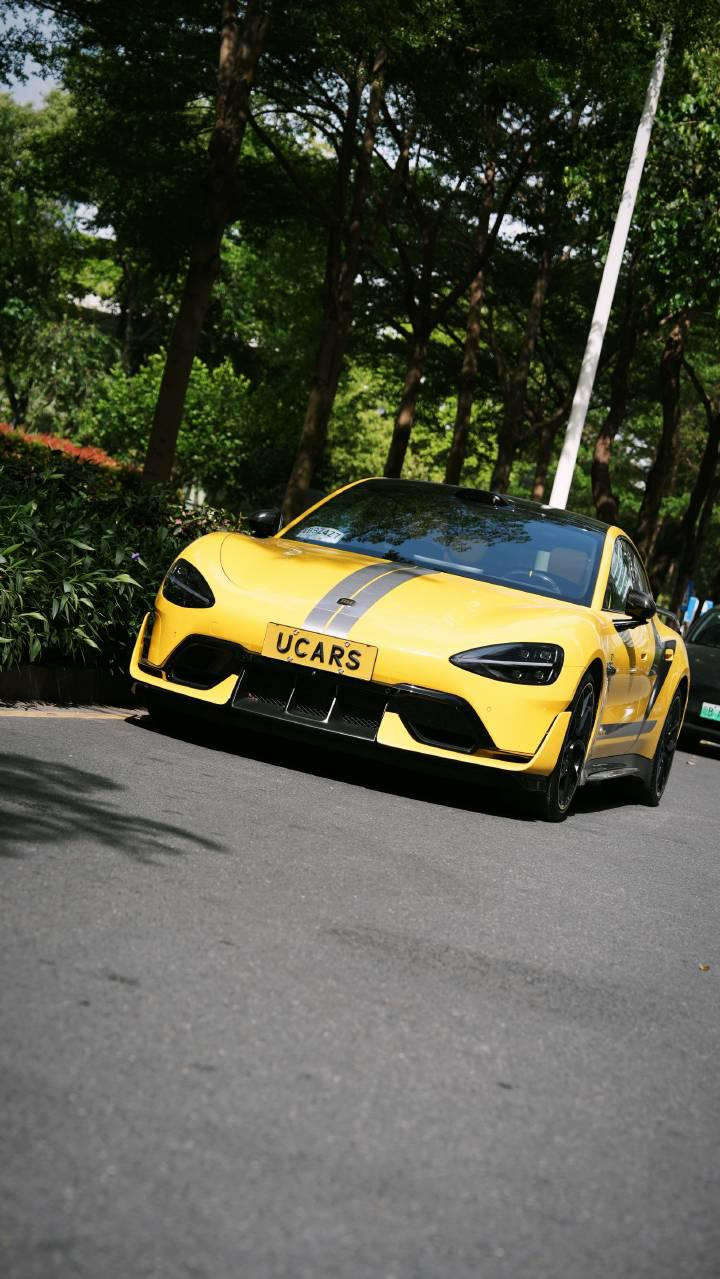su7: (126, 470, 700, 815)
